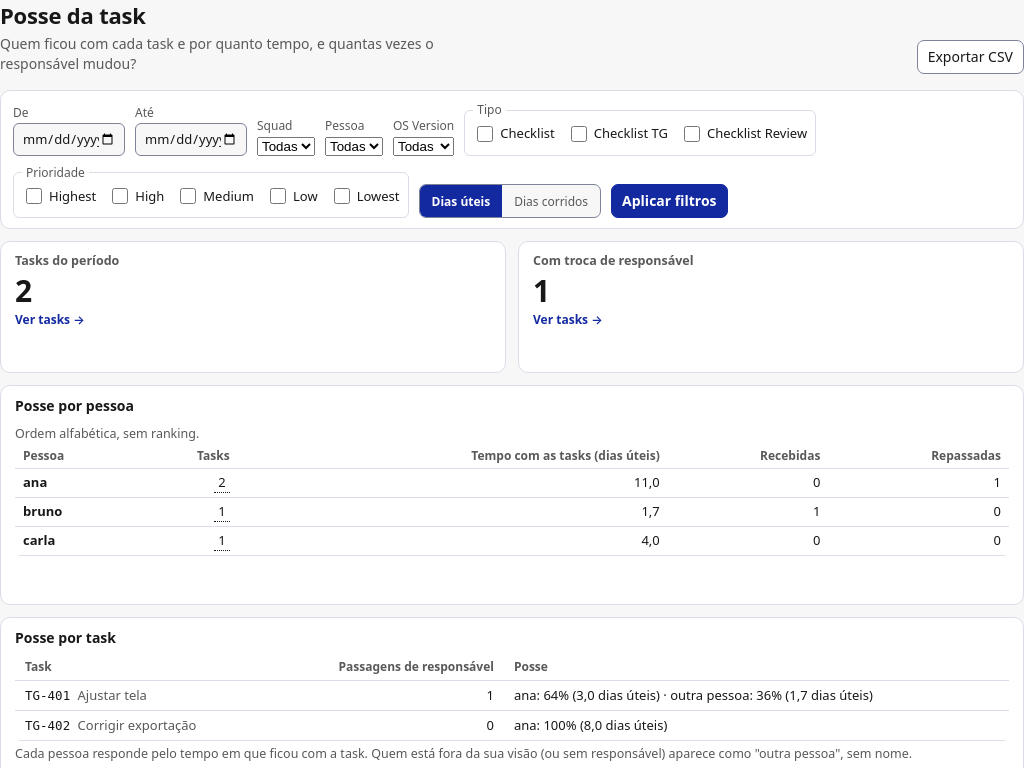
Test: tela Posse da task › contagemDaPessoaAbreAGavetaComMesmoTamanho
Click the button named "ana Tasks: 2".
click(222, 483)  # box left=214, top=473, right=230, bottom=493
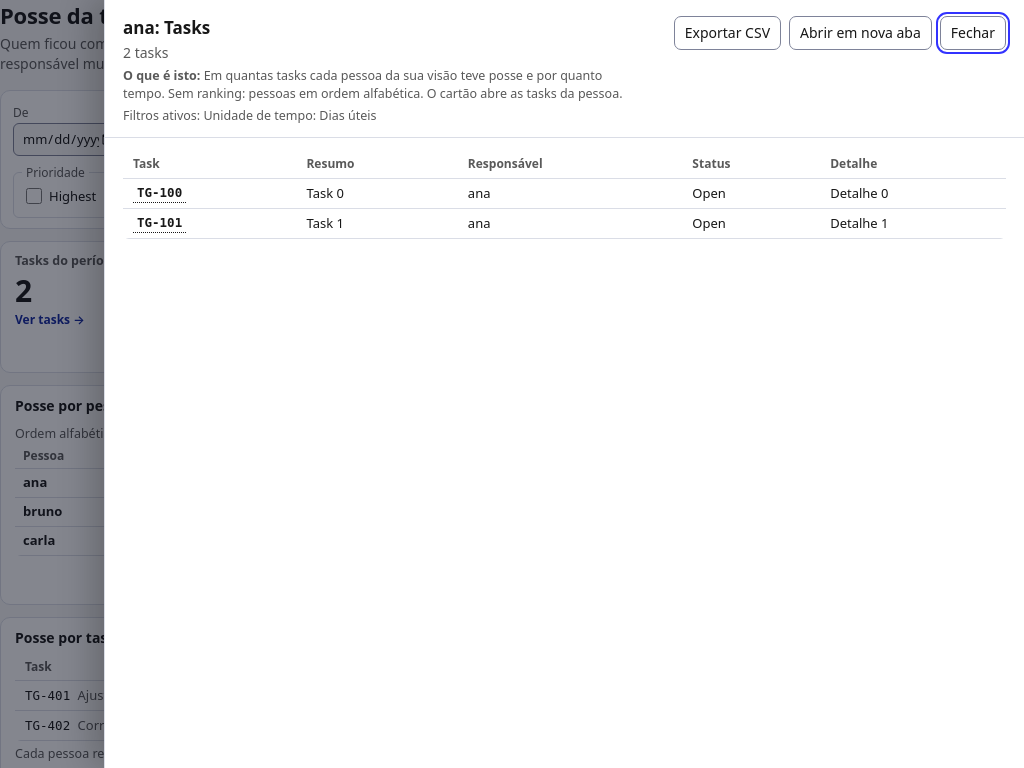
expect the text "2 tasks" is shown: met, box left=123, top=43, right=168, bottom=62
